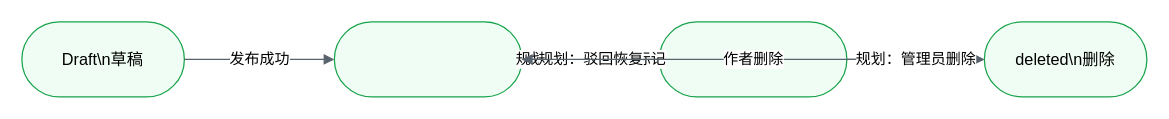
The diagram is 1169 pixels wide and 119 high, and some of its shapes have lost their labels. The shapes that lost their labels are listed below. From the top down, each one's centre as x and y in pixels, then its label:
point (427, 59): visible\n已发布可见
point (752, 59): pending\n处理中隐藏
